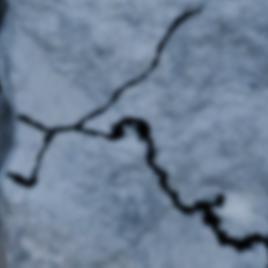brick: (0, 0, 267, 237), (0, 126, 267, 267)
crack: (0, 2, 267, 252), (0, 0, 10, 31), (0, 82, 2, 92)
